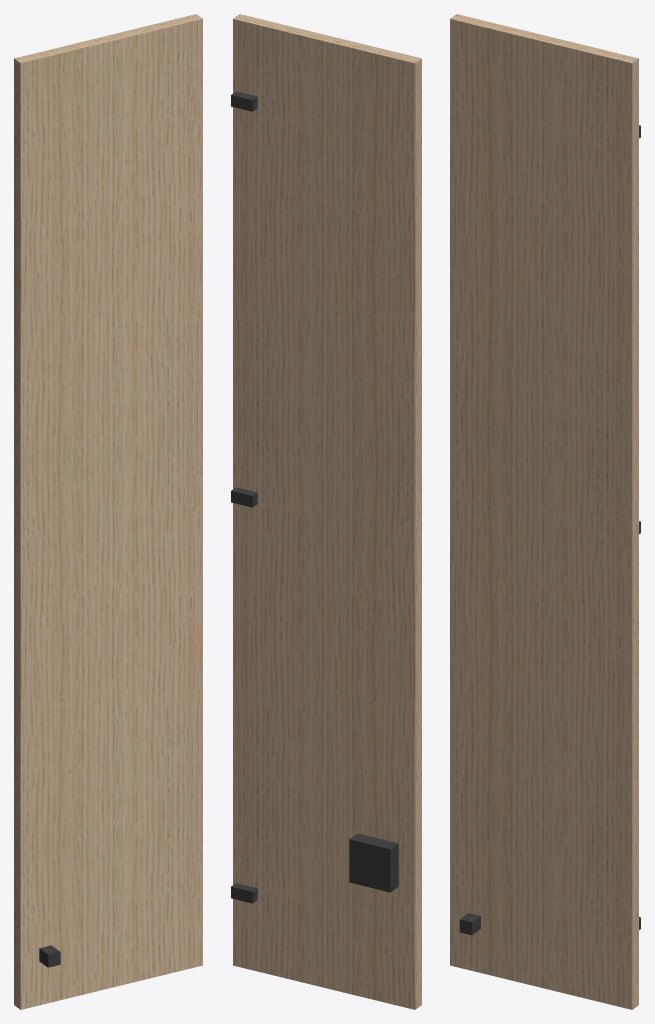
The model's file is A_dor_ovre_hoyre.glb.
3 renders of one model, left to right at view 1: azimuth 30°, elevation 25°; view 2: azimuth 150°, elevation 25°; view 3: azimuth 330°, elevation 25°, orthographic.
Visible parts, largest first — view 1: 2025-284 Resepsjon høyskap; view 2: 2025-284 Resepsjon høyskap; view 3: 2025-284 Resepsjon høyskap.
Boxes of the visible parts, x1,y1,x2,y2 form: 2025-284 Resepsjon høyskap: [14, 14, 202, 1009]; 2025-284 Resepsjon høyskap: [231, 14, 421, 1009]; 2025-284 Resepsjon høyskap: [450, 14, 640, 1009].
Size of the model in its own units: 296 by 1467 by 67.
Materials: 2 (1 with a texture image).
